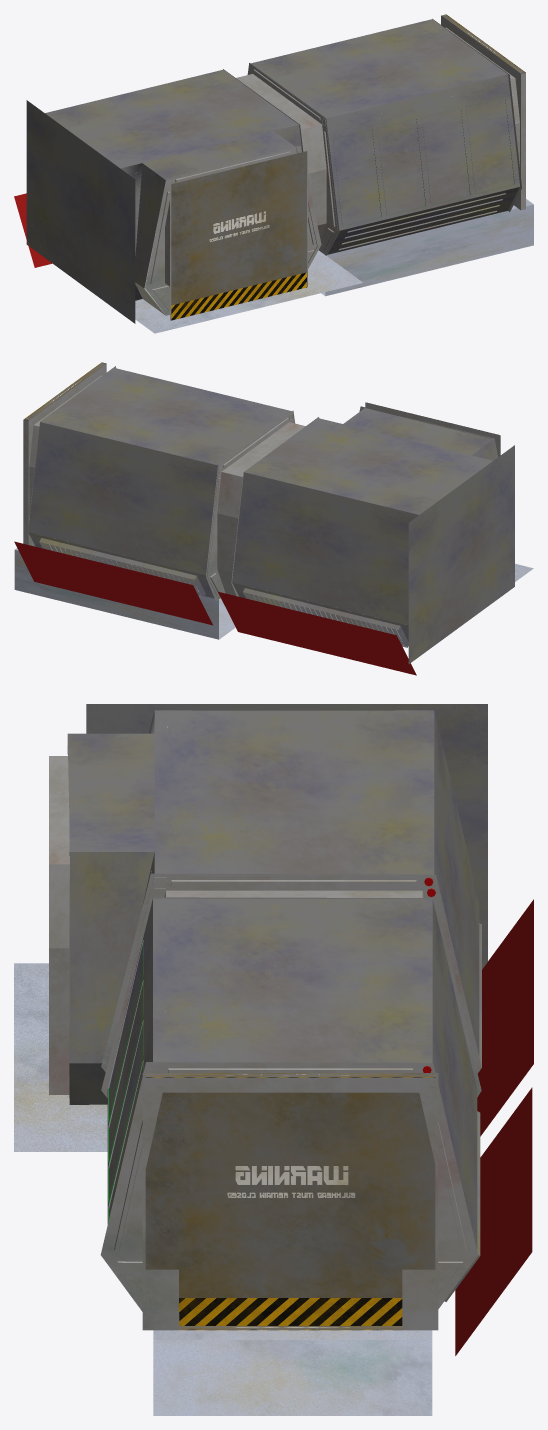
File: AntonPhibes3.FBX
3 views of the same model, one above another, from view 1: azimuth 30°, elevation 25°; view 2: azimuth 150°, elevation 25°; view 3: azimuth 270°, elevation 25° (orthographic). The views are drawn at different scales.
Parts seen in each view (by area): view 1: WallCeiling, WallsCeilingT01, DoorInner2, Plane01, Floor, Bulkhead-NoDoor01, BulkheadInner2, RidgePanel, FloorT01, BulkheadOuter3, VentPanel01, DoorOuter3; view 2: WallsCeilingT01, WallCeiling, Plane01, VentPanel, VentPanel01, Bulkhead-NoDoor01, Floor, BulkheadOuter3, BulkheadInner2, DoorOuter3; view 3: WallsCeilingT01, DoorOuter3, WallCeiling, BulkheadOuter3, Floor, VentPanel, Bulkhead-NoDoor01, Plane01, FloorT01, VentPanel01, BulkheadInner2.
Part boxes in pixels (x1,y1,x2,y2): WallCeiling: [248, 19, 519, 230]; WallsCeilingT01: [45, 69, 317, 315]; DoorInner2: [171, 151, 306, 320]; Plane01: [26, 100, 135, 323]; Floor: [320, 199, 533, 296]; Bulkhead-NoDoor01: [223, 63, 339, 255]; BulkheadInner2: [145, 146, 321, 320]; RidgePanel: [326, 187, 519, 254]; FloorT01: [135, 224, 362, 333]; BulkheadOuter3: [433, 14, 525, 211]; VentPanel01: [14, 193, 157, 267]; DoorOuter3: [442, 15, 524, 73]; WallsCeilingT01: [232, 408, 497, 625]; WallCeiling: [28, 368, 294, 575]; Plane01: [408, 445, 514, 663]; VentPanel: [14, 532, 216, 625]; VentPanel01: [218, 582, 416, 675]; Bulkhead-NoDoor01: [206, 410, 318, 601]; Floor: [14, 544, 235, 639]; BulkheadOuter3: [23, 362, 115, 549]; BulkheadInner2: [359, 402, 500, 456]; DoorOuter3: [24, 363, 105, 420]; WallsCeilingT01: [67, 710, 479, 1104]; DoorOuter3: [145, 1073, 435, 1330]; WallCeiling: [107, 898, 477, 1249]; BulkheadOuter3: [100, 1062, 478, 1330]; Floor: [153, 1330, 432, 1415]; VentPanel: [444, 1087, 532, 1355]; Bulkhead-NoDoor01: [101, 873, 481, 1097]; Plane01: [86, 704, 487, 969]; FloorT01: [14, 963, 107, 1151]; VentPanel01: [477, 899, 533, 1136]; BulkheadInner2: [49, 756, 69, 1097].
Size of the model in its own units: 800 by 466 by 331.
Materials: 10 (6 with a texture image).
